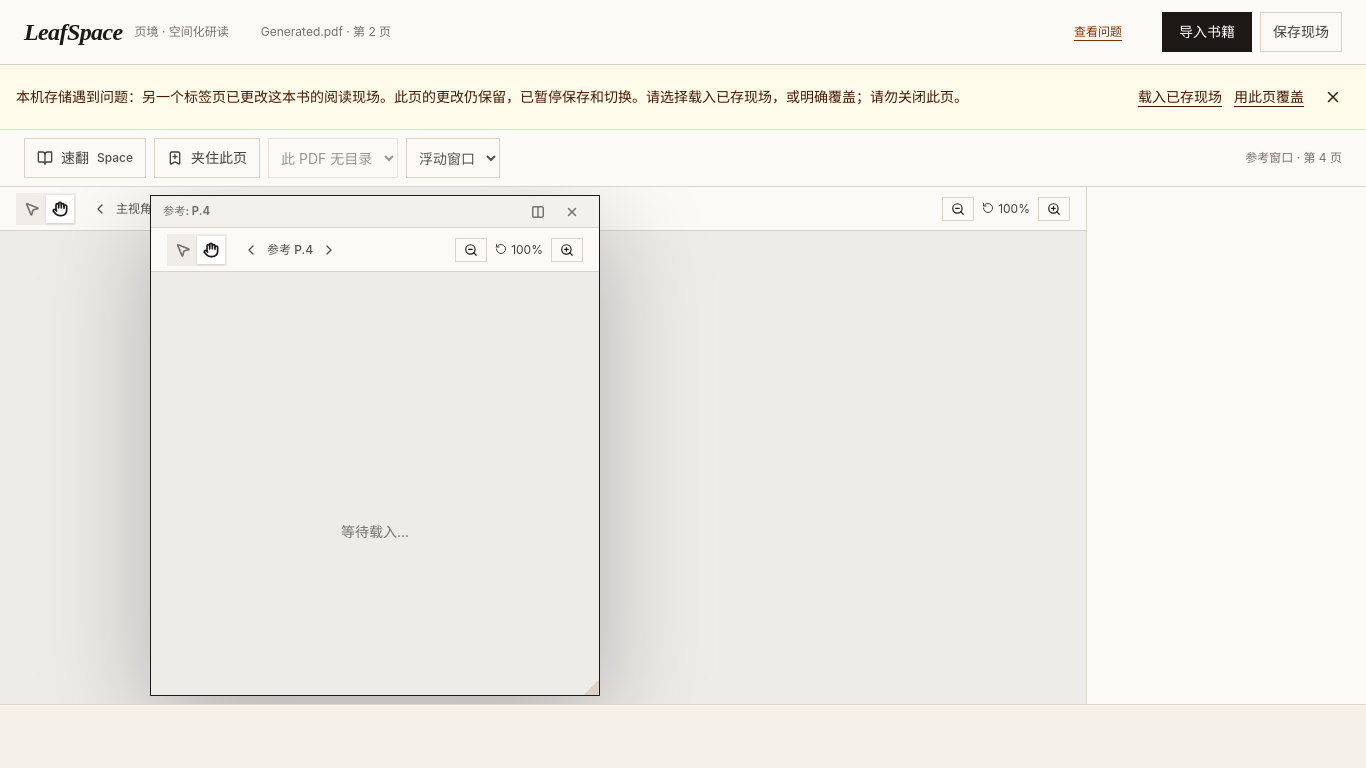
Scenario: explicit cross-tab conflict resolution › keeps conflict guidance and exit/auto-save barriers through dismissal and ordinary Save
The image size is (1366, 768).
Expected: the message shows "另一个标签页", [16, 88, 968, 105]
Click the button named "关闭提示".
click(1333, 97)  # box [1316, 80, 1350, 114]
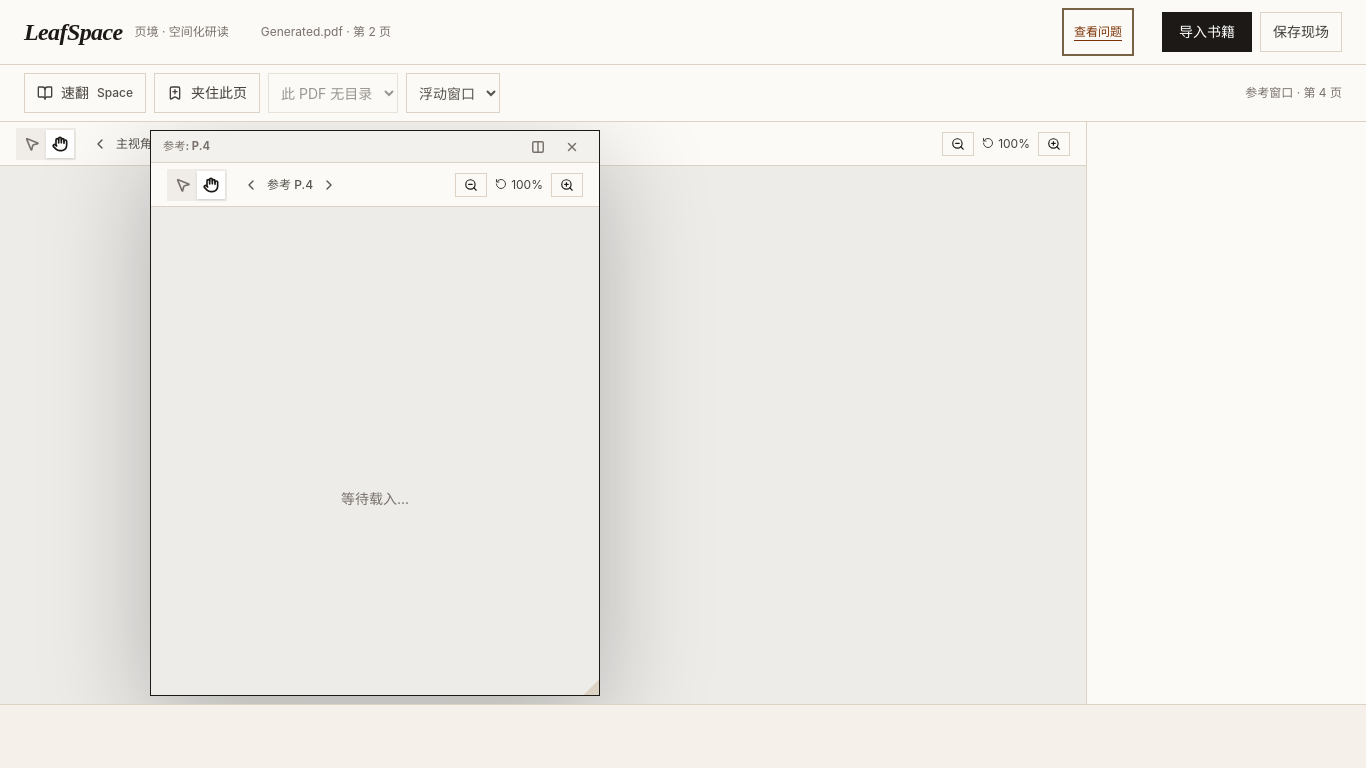
Result: the message is gone
Click the button "保存现场".
click(1301, 32)  # box [1260, 12, 1342, 52]
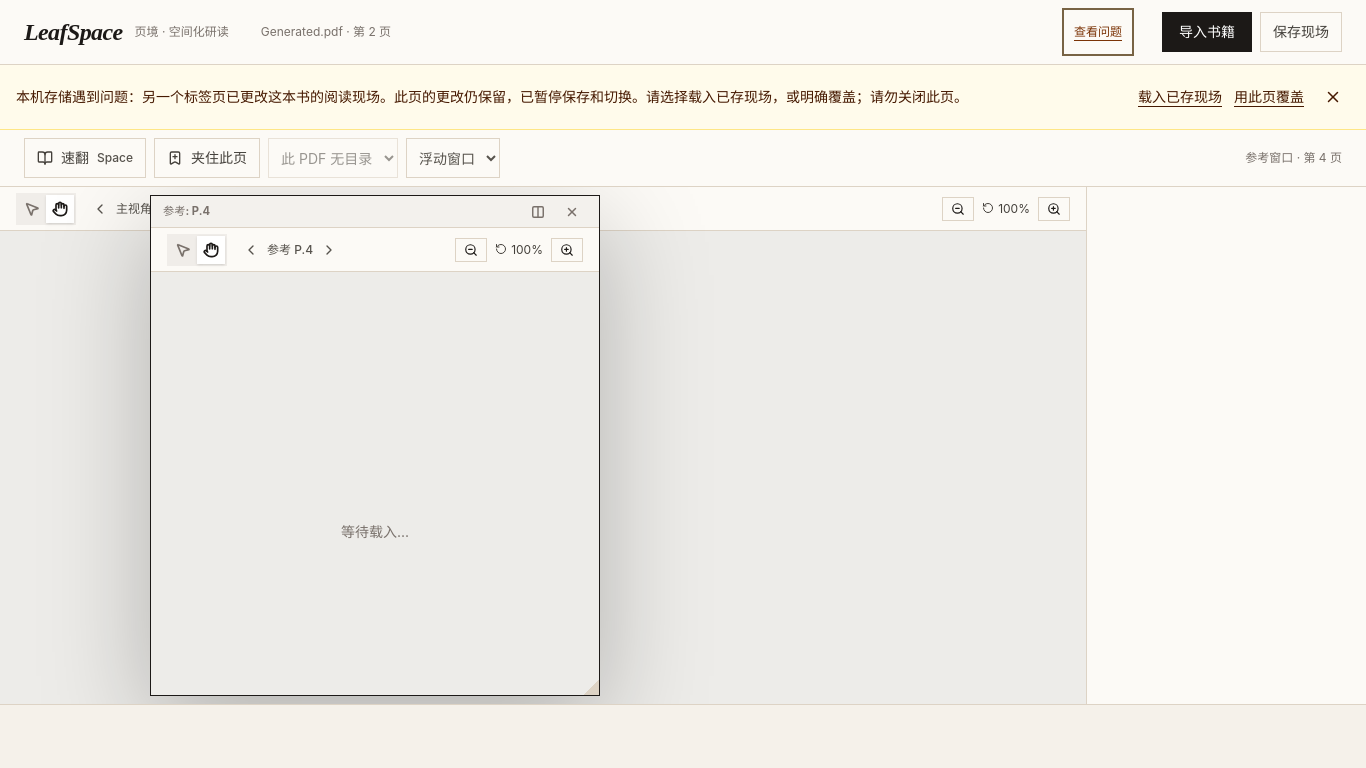
Result: the message shows "另一个标签页" at [16, 88, 968, 105]
